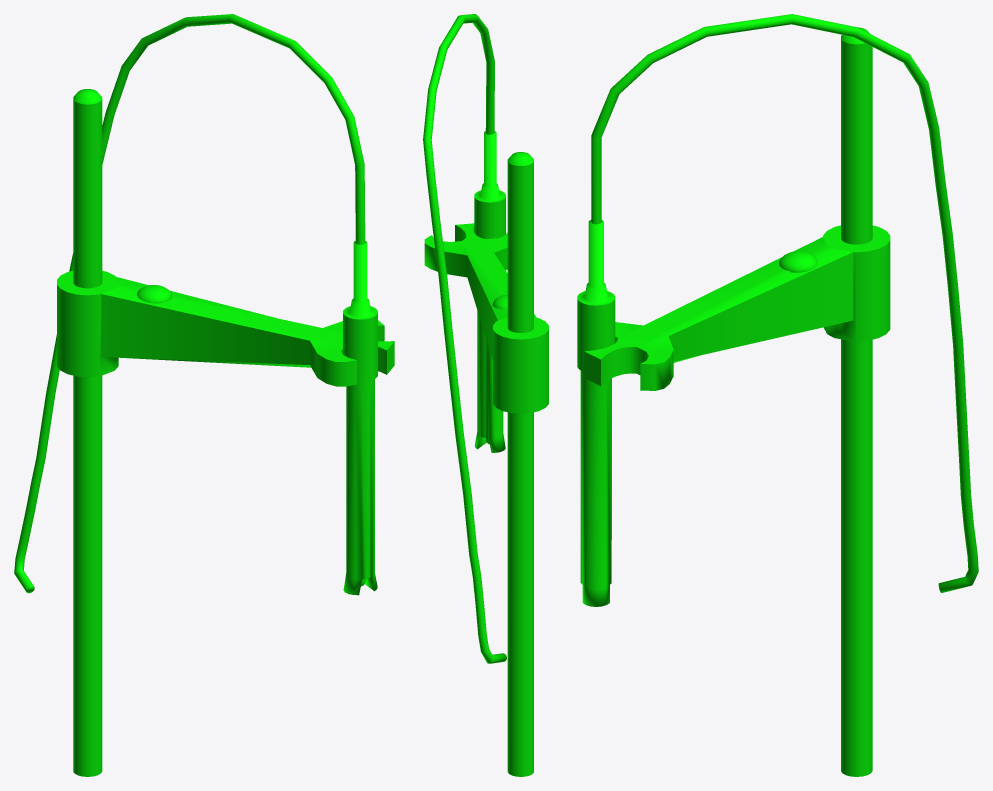
Rendered from MagneticStirrer.FBX.
The picture shows the model from 3 angles, left to right: view 1: azimuth 30°, elevation 25°; view 2: azimuth 150°, elevation 25°; view 3: azimuth 270°, elevation 25°; orthographic projection. The views are drawn at different scales.
Parts seen in each view (by area): view 1: Magnetic_Stirrer; view 2: Magnetic_Stirrer; view 3: Magnetic_Stirrer.
Boxes of the visible parts, box(x1,y1,x2,y2) form: Magnetic_Stirrer: box(14, 14, 394, 776); Magnetic_Stirrer: box(423, 14, 548, 776); Magnetic_Stirrer: box(577, 14, 978, 776).
Bounding box in the file's own units: 13.6 × 43.16 × 19.22.
